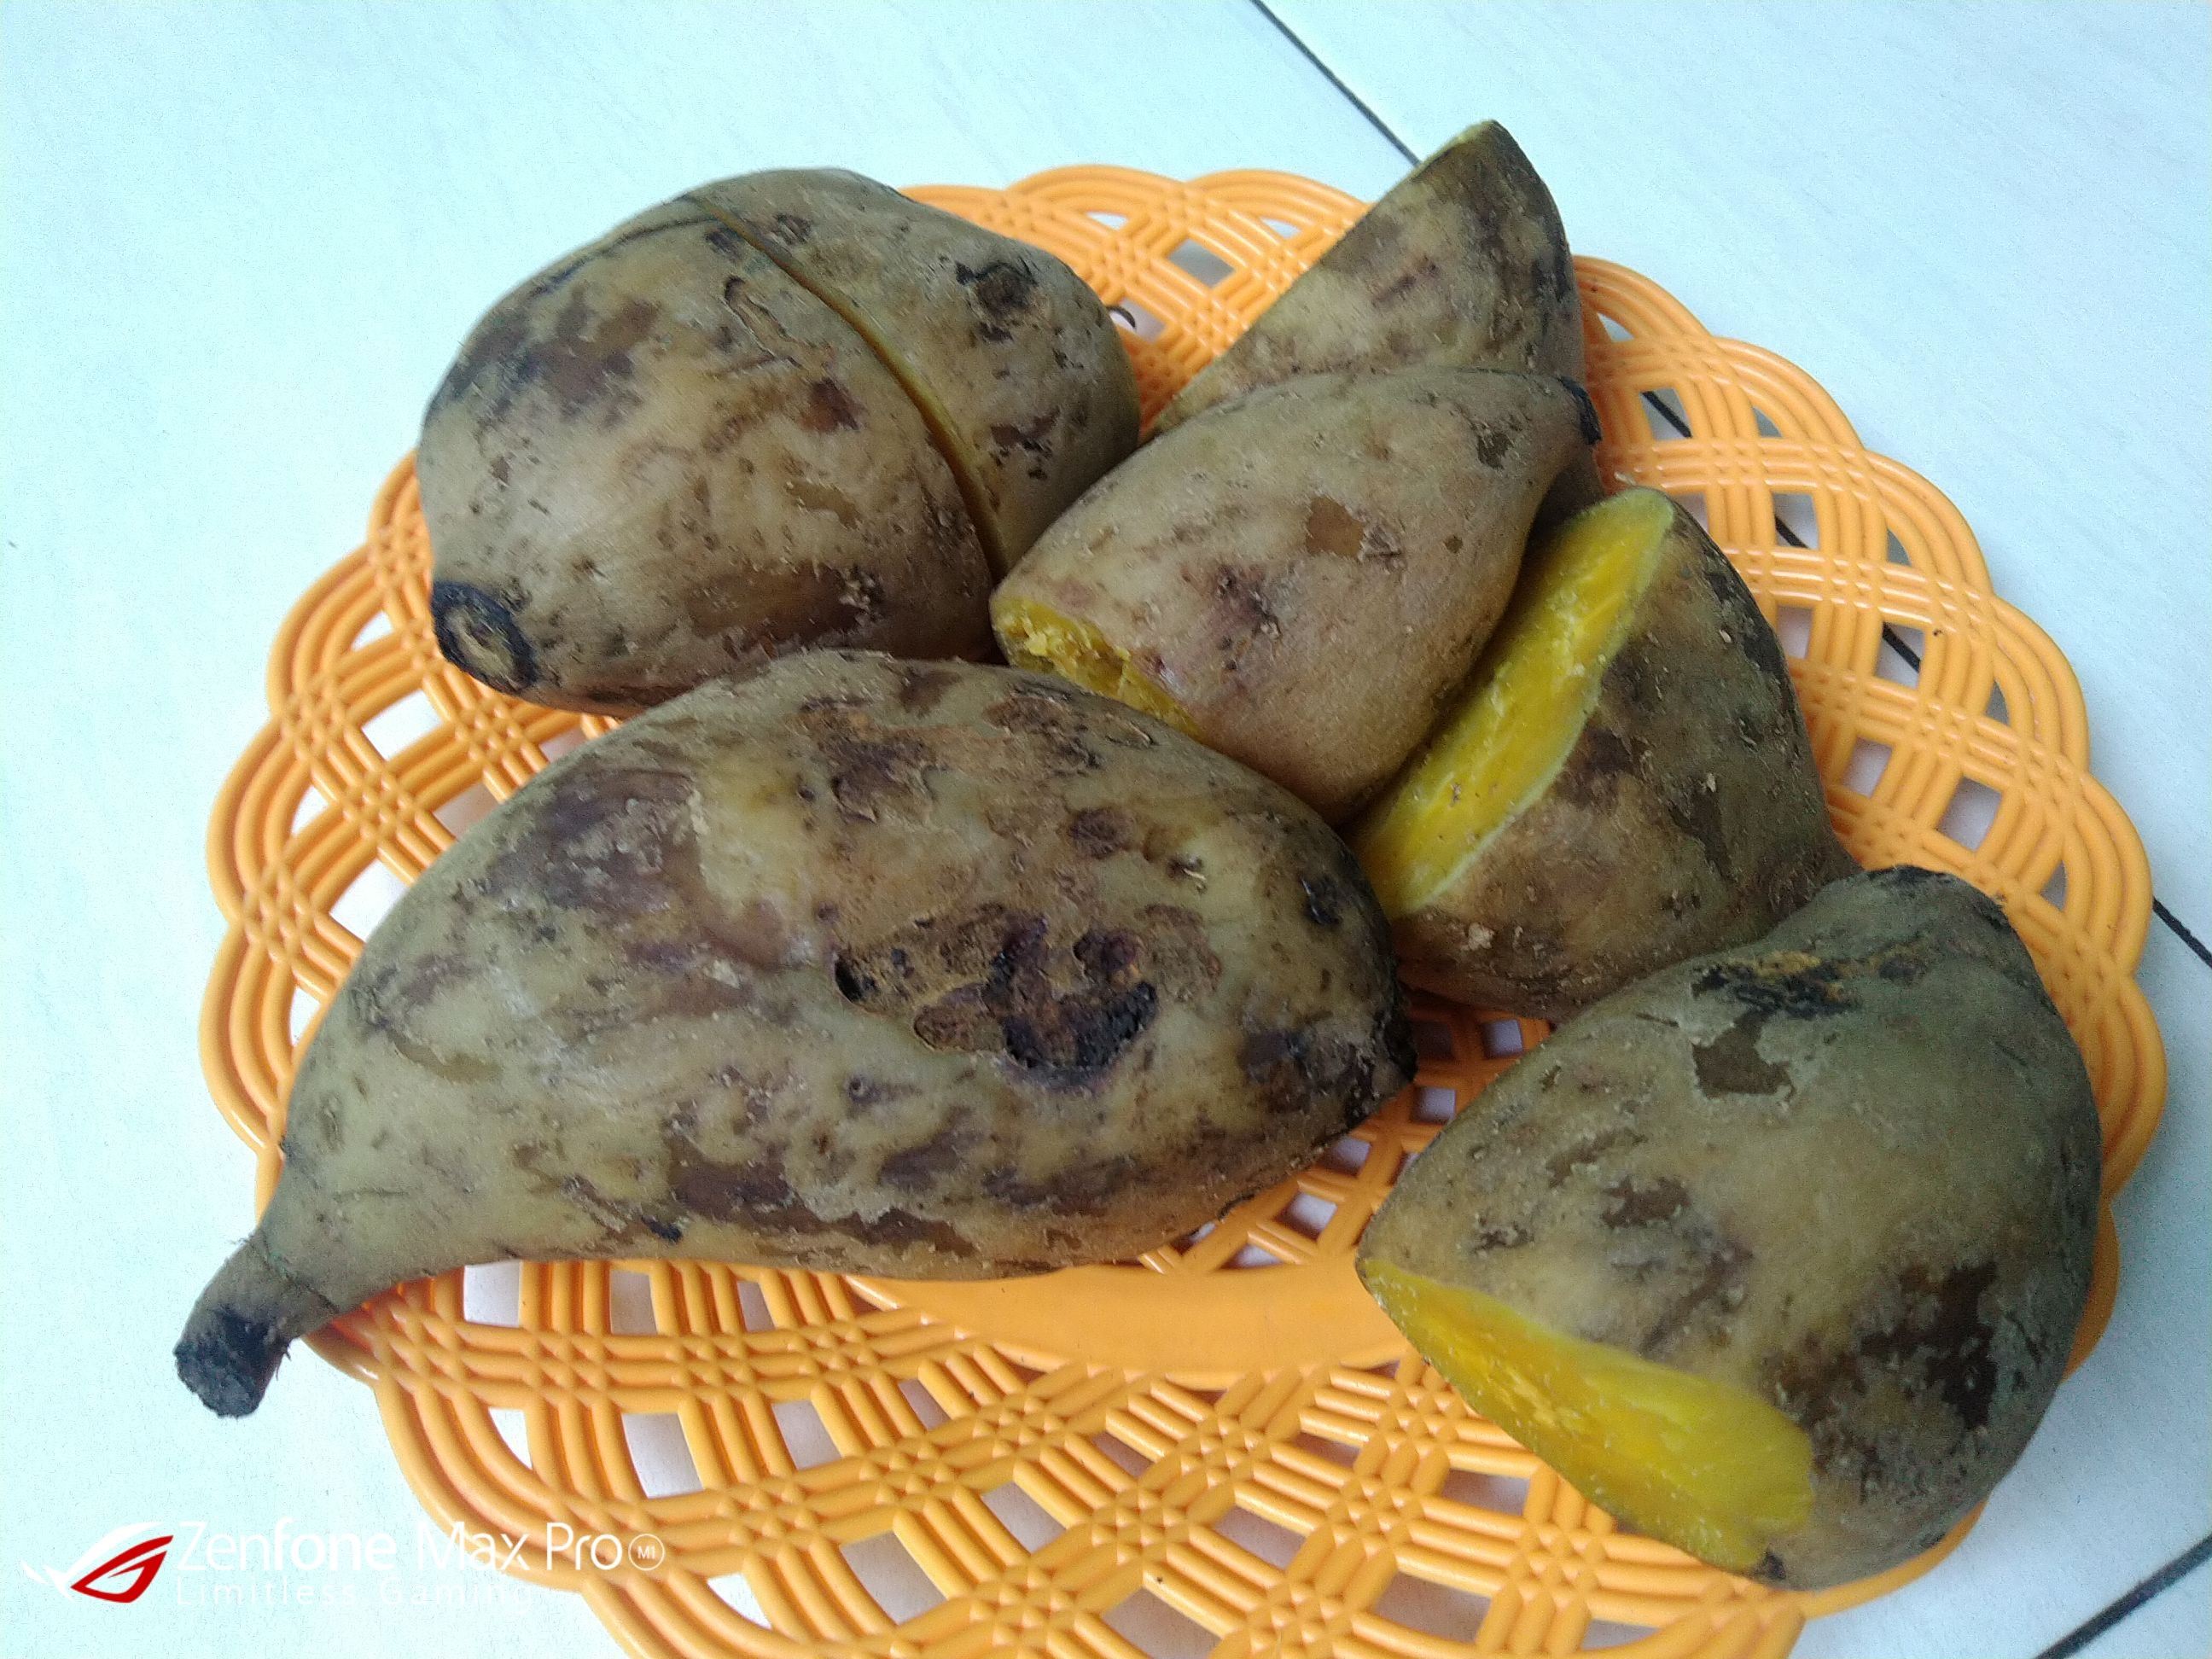ubi kuning: (165, 629, 1425, 1457), (1346, 850, 2146, 1610), (986, 101, 1599, 758), (404, 143, 1118, 697), (1345, 464, 1839, 1035)
